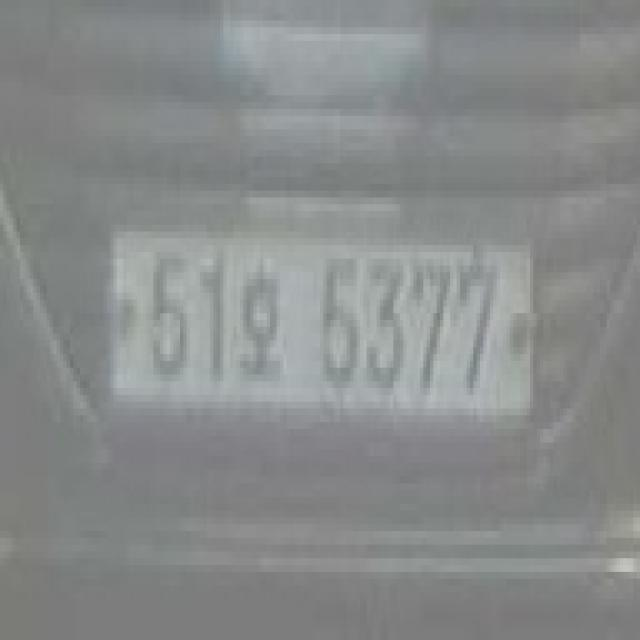1: (198, 254, 230, 402)
3: (370, 258, 406, 394)
5: (311, 245, 365, 408), (146, 246, 192, 387)
7: (456, 254, 497, 394), (414, 263, 452, 399)
ho: (238, 260, 284, 398)
license_plate: (102, 204, 550, 449)
